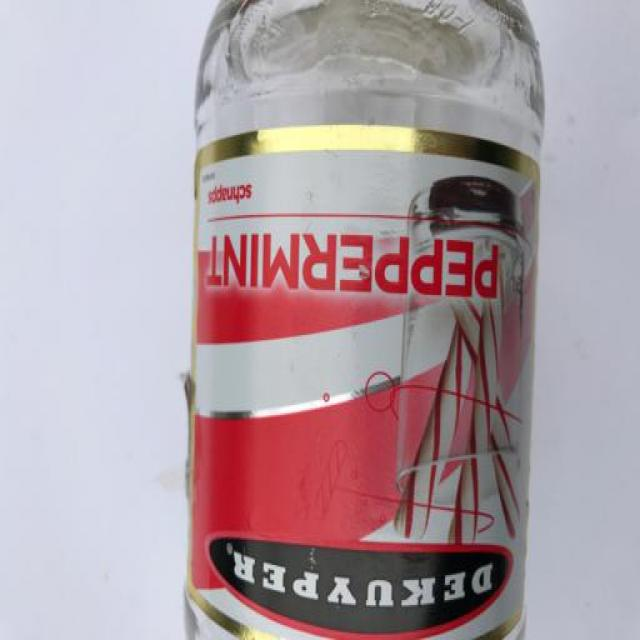glass: (173, 1, 640, 640)
